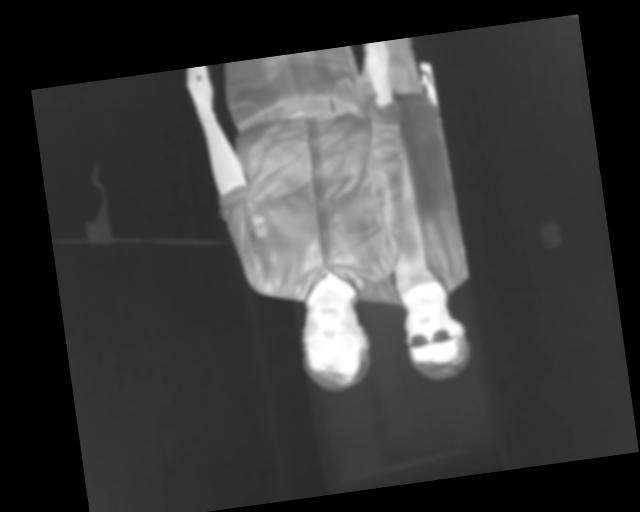face: (291, 288, 376, 396), (398, 294, 472, 385)
